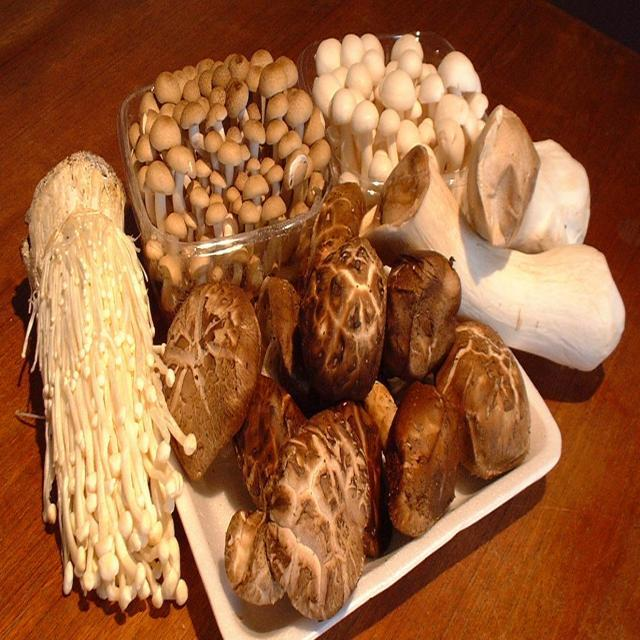Flammulina velutiper: (20, 149, 196, 616)
Hypsizygus marmoreus: (134, 50, 329, 253), (316, 33, 486, 178)
Lentinus edodes: (227, 410, 372, 619), (164, 278, 261, 479), (369, 381, 458, 535), (446, 322, 532, 465), (316, 244, 388, 401)
Pleurotus eryngii: (363, 150, 626, 369)
